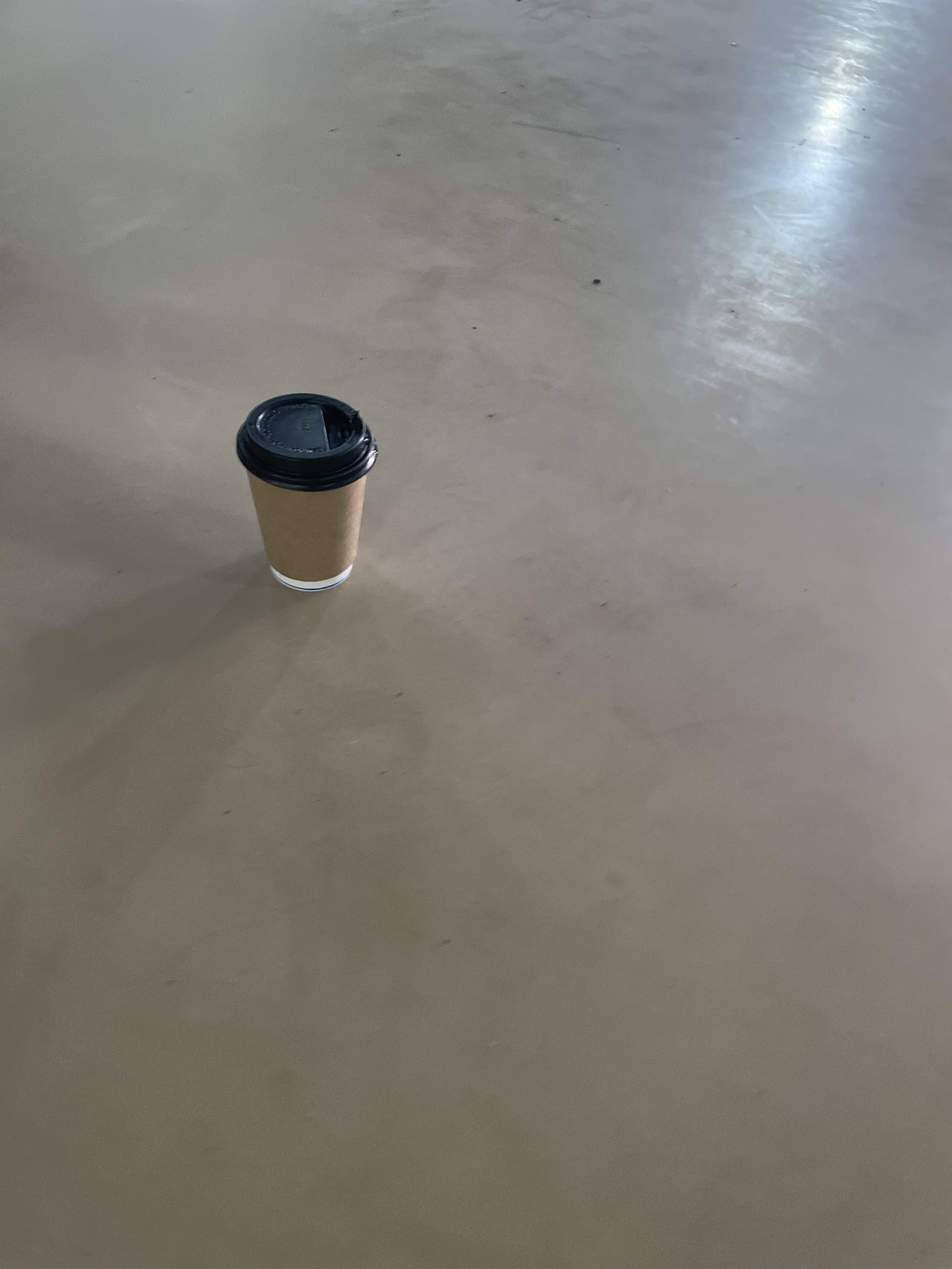cup: (236, 391, 378, 592)
